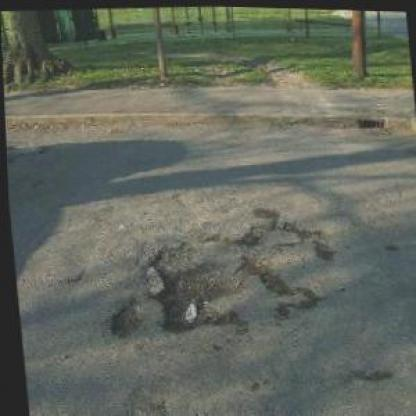pothole: (140, 230, 245, 337), (238, 250, 290, 294), (103, 297, 144, 337)
